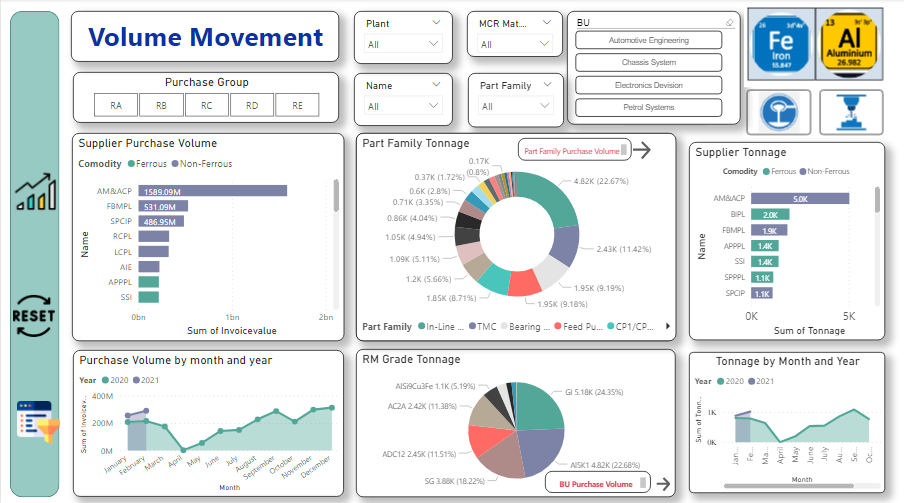

What the dashboard file says about the page in this screenshot:
{"tool":"powerbi","page":{"name":"Volume Moment ","canvas":[1280,720],"ordinal":2},"visuals":[{"type":"slicer","title":"Purchase Group","fields":{"Values":["Material weights and source.Purchasing group"]},"box":[101.8,104.2,377.3,71.8],"z":0},{"type":"slicer","title":"Supplier Name","fields":{"Values":["Supplier data.Name"]},"box":[501,104.9,139.8,74.9],"z":1000},{"type":"slicer","fields":{"Values":["Material weights and source.Part Family"]},"box":[874,124.1,135.9,83.9],"z":2000},{"type":"slicer","title":"Plant","fields":{"Values":["Master Report.Plant"]},"box":[501,16.6,139.8,74.9],"z":3000},{"type":"slicer","fields":{"Values":["Master Report.MCR Mat.grp."]},"box":[660.8,16.6,136.5,64.9],"z":4000},{"type":"ChicletSlicer1448559807354","fields":{"Category":["Supplier data.Casting"],"Image":["Supplier data.Casting Logo"]},"box":[1048.6,121,104.9,104.9],"z":5000},{"type":"ChicletSlicer1448559807354","fields":{"Category":["Supplier data.Machining"],"Image":["Supplier data.Machining Logo"]},"box":[1151.8,121,113.2,81.6],"z":6000},{"type":"barChart","title":"Supplier Purchase Volume","fields":{"Y":["Sum(Master Report.Invoicevalue)"],"Series":["Supplier data.Comodity"],"Category":["Supplier data.Name"]},"box":[100.6,189.9,385.5,294.8],"z":7000},{"type":"donutChart","title":"Part Family Purchase Volume","fields":{"Category":["Material weights and source.Part Family"],"Y":["Sum(Master Report.Invoicevalue)"]},"box":[502.7,189.8,452.7,294.6],"z":8000},{"type":"areaChart","title":"Purchase Volume by month and year","fields":{"Y":["Sum(Master Report.Invoicevalue)"],"Category":["Master Report.Date.Variation.Date Hierarchy.Month"],"Series":["Master Report.Date.Variation.Date Hierarchy.Year"]},"box":[101.5,497.7,384.5,208.1],"z":9000},{"type":"barChart","title":"Supplier Tonnage","fields":{"Y":["Sum(Master Report.Tonnage)"],"Category":["Supplier data.Name"],"Series":["Supplier data.Comodity"]},"box":[975.4,203.1,278,281.3],"z":10000},{"type":"pieChart","title":"RM Grade Tonnage","fields":{"Y":["Sum(Master Report.Tonnage)"],"Category":["Material weights and source.RM Grade"]},"box":[502.7,496,452.7,209.7],"z":11000},{"type":"areaChart","title":"Tonnage by Month and Year","fields":{"Y":["Sum(Master Report.Tonnage)"],"Series":["Master Report.Date.Variation.Date Hierarchy.Year"],"Category":["Master Report.Date.Variation.Date Hierarchy.Month"]},"box":[975.4,501,278,199.7],"z":12000},{"type":"ChicletSlicer1448559807354","title":"BU","fields":{"Category":["Master Report.BU"]},"box":[802.3,16.6,246.3,161.5],"z":13000},{"type":"ChicletSlicer1448559807354","fields":{"Category":["Supplier data.Comodity"],"Image":["Supplier data.Commodity Logo"]},"box":[1053.1,7.1,226.8,117.6],"z":14000},{"type":"slicer","fields":{"Values":["Material weights and source.Part Family"]},"box":[661.3,104.8,135.9,76.9],"z":15000},{"type":"shape","box":[13.3,16.6,69.9,689.1],"z":16000},{"type":"textbox","box":[99.9,16.6,379.5,71.6],"z":17000},{"type":"textbox","box":[771.6,669,150,31],"z":19000},{"type":"actionButton","box":[924,668,28.3,39.9],"z":20000},{"type":"actionButton","box":[18,566.1,88.1,69.2],"z":25000},{"type":"actionButton","box":[905.5,203.1,69.9,28.3],"z":26000},{"type":"textbox","box":[757.3,203.1,148.1,28.3],"z":27000},{"type":"donutChart","title":"Part Family Tonnage","fields":{"Category":["Material weights and source.Part Family"],"Y":["Sum(Master Report.Tonnage)"]},"box":[503.6,190.4,454.1,294.8],"z":28000},{"type":"textbox","box":[733,197,161,32],"z":29000},{"type":"actionButton","box":[890,197,100.7,34.8],"z":30000},{"type":"actionButton","box":[12.8,415.7,69.6,67.8],"z":31000},{"type":"actionButton","box":[7,231.5,118,83.3],"z":34000}]}

Visuals, with their boxes in screenshot pixels (x1, y1, x2, y2), scaled from the page's 1280x720 canvas onto the 904x503 screenshot:
"Purchase Group" slicer: box(72, 73, 338, 123)
"Supplier Name" slicer: box(354, 73, 453, 126)
slicer - Material weights and source.Part Family: box(617, 87, 713, 145)
"Plant" slicer: box(354, 12, 453, 64)
slicer - Master Report.MCR Mat.grp.: box(467, 12, 563, 57)
ChicletSlicer1448559807354 - Supplier data.Casting x Supplier data.Casting Logo: box(741, 85, 815, 158)
ChicletSlicer1448559807354 - Supplier data.Machining x Supplier data.Machining Logo: box(813, 85, 893, 142)
"Supplier Purchase Volume" barChart: box(71, 133, 343, 339)
"Part Family Purchase Volume" donutChart: box(355, 133, 675, 338)
"Purchase Volume by month and year" areaChart: box(72, 348, 343, 493)
"Supplier Tonnage" barChart: box(689, 142, 885, 338)
"RM Grade Tonnage" pieChart: box(355, 347, 675, 493)
"Tonnage by Month and Year" areaChart: box(689, 350, 885, 490)
"BU" ChicletSlicer1448559807354: box(567, 12, 741, 124)
ChicletSlicer1448559807354 - Supplier data.Comodity x Supplier data.Commodity Logo: box(744, 5, 903, 87)
slicer - Material weights and source.Part Family: box(467, 73, 563, 127)
shape: box(9, 12, 59, 493)
textbox: box(71, 12, 339, 62)
textbox: box(545, 467, 651, 489)
actionButton: box(653, 467, 673, 495)
actionButton: box(13, 395, 75, 444)
actionButton: box(640, 142, 689, 162)
textbox: box(535, 142, 639, 162)
"Part Family Tonnage" donutChart: box(356, 133, 676, 339)
textbox: box(518, 138, 631, 160)
actionButton: box(629, 138, 700, 162)
actionButton: box(9, 290, 58, 338)
actionButton: box(5, 162, 88, 220)
